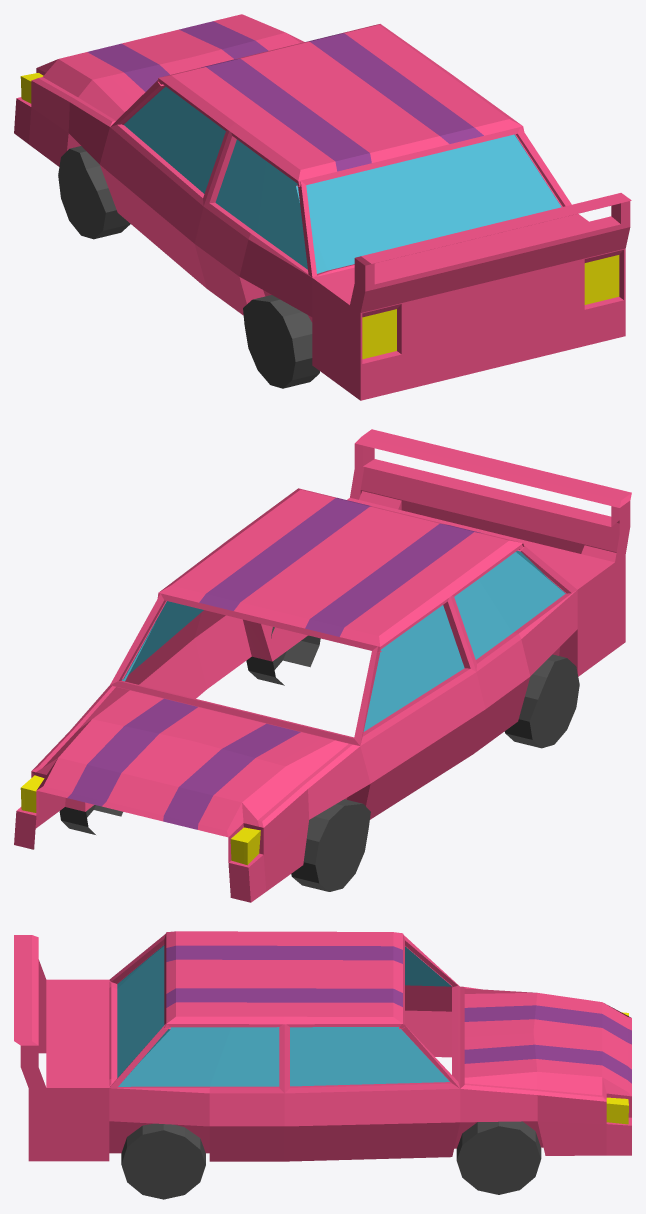
The model's file is PlayerCar_Pink.fbx.
The picture shows the model from 3 angles, top to bottom: view 1: azimuth 30°, elevation 25°; view 2: azimuth 150°, elevation 25°; view 3: azimuth 270°, elevation 25°; orthographic projection. The views are drawn at different scales.
Parts seen in each view (by area): view 1: Cube.002; view 2: Cube.002; view 3: Cube.002.
Boxes of the visible parts, box(x1,y1,x2,y2) form: Cube.002: box(14, 14, 631, 400); Cube.002: box(14, 429, 631, 902); Cube.002: box(14, 931, 631, 1199).
Size of the model in its own units: 179 by 116 by 388.
